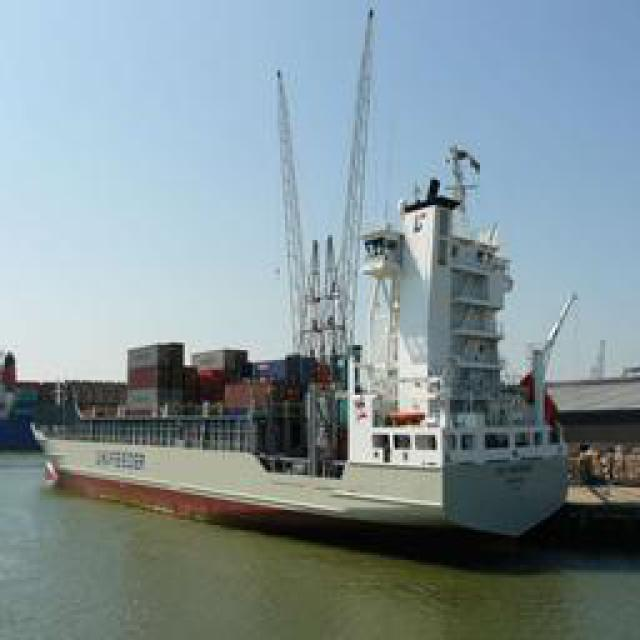Ship: (31, 189, 580, 540)
